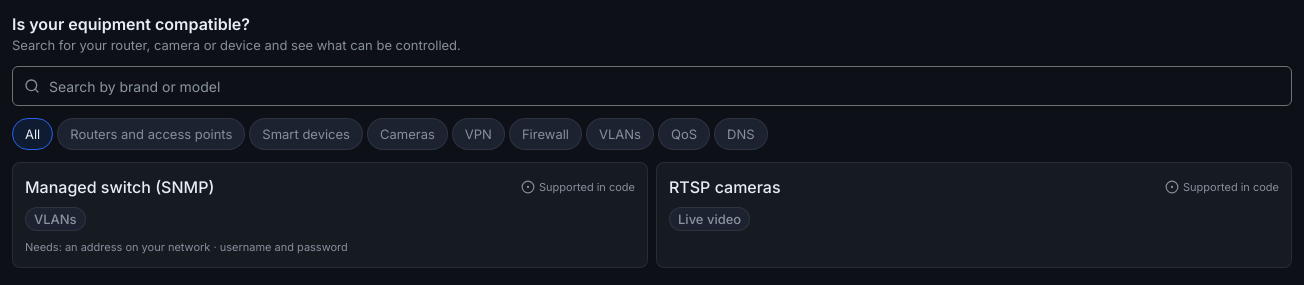
CompatibilitySection (US-208) › el nombre sale del catálogo según el idioma, no del servidor
Expected: the text "RTSP cameras" is shown, [669,175,781,199]
Expected: the text "Managed switch (SNMP)" is shown, [25,175,214,199]
La búsqueda va por el nombre que se ve, no por el que no se ve.
Type "managed" into the field labelled "Search by brand or model" at (652, 86), box [12,66,1292,106]
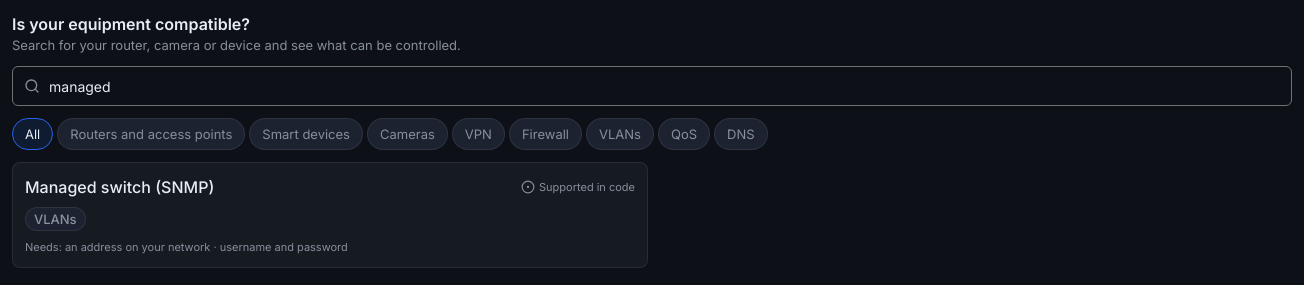
Expected: the text "Managed switch (SNMP)" is shown, [25,175,214,199]
Expected: the text "RTSP cameras" is gone
